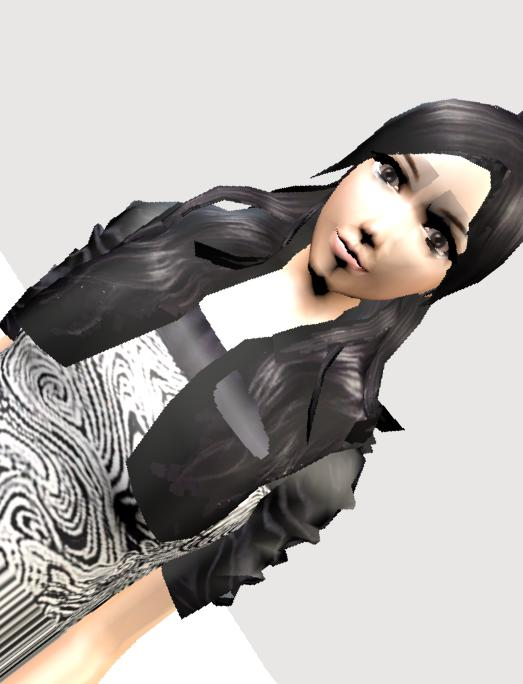clip: (215, 374, 263, 422)
